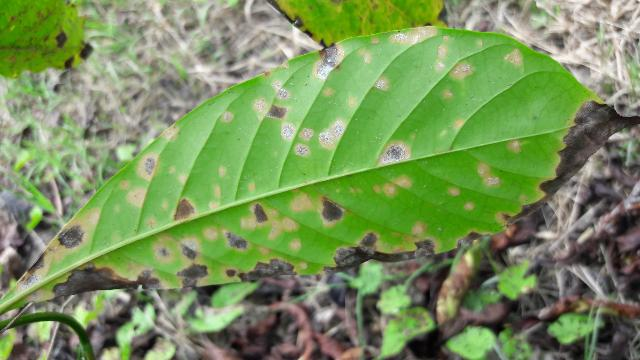rust_level_3: (1, 29, 628, 311)
